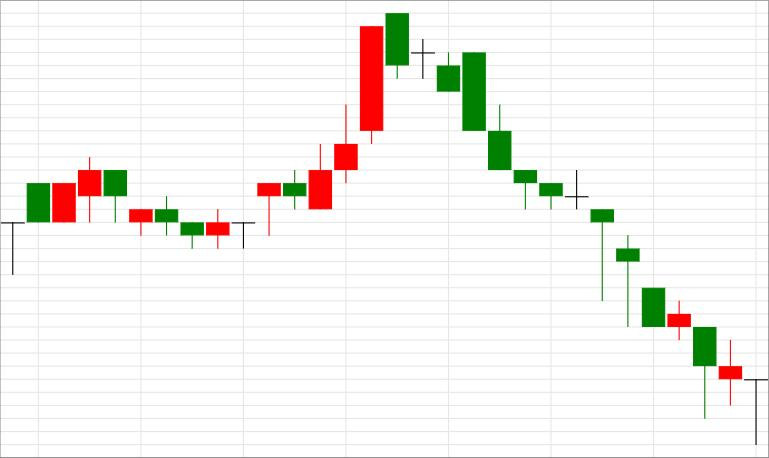hammer_rise: (411, 39, 716, 419)
